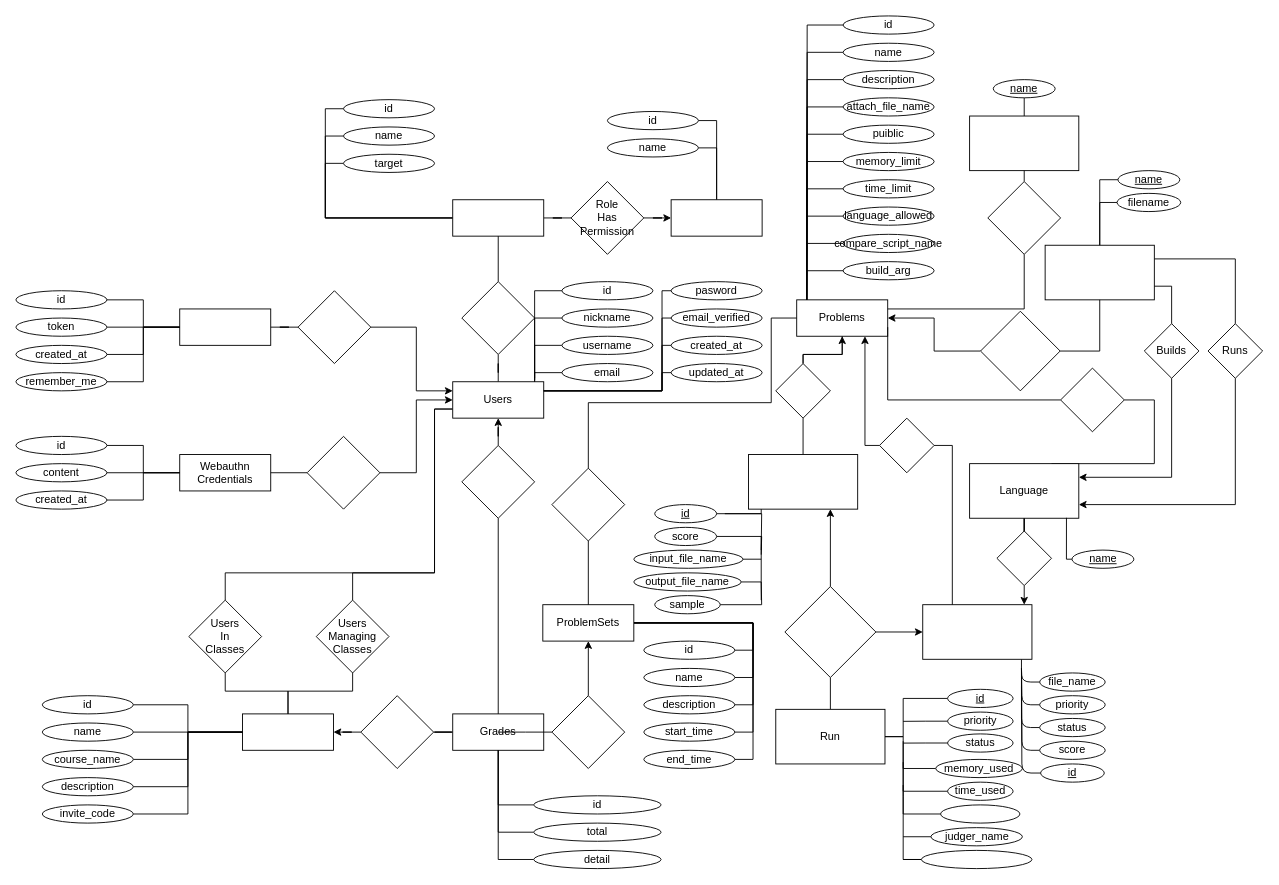
The diagram is 1279 pixels wide and 885 high, and some of its shapes have lost their labels. The box of each missing label's shape, as (x1, y1, x2, y2) in pixels:
Allows: (1060, 367, 1124, 432)
Classes: (242, 713, 334, 750)
Compares: (980, 310, 1060, 391)
Configured: (784, 586, 876, 677)
For: (879, 417, 934, 473)
Grades BelongsTo Users: (461, 445, 535, 518)
Grades On Classes: (360, 695, 434, 768)
Grades On ProblemSet: (551, 695, 625, 768)
Has: (775, 363, 830, 418)
In: (996, 530, 1052, 586)
judger_message: (920, 849, 1032, 869)
Labeled: (987, 181, 1061, 254)
output_hash: (940, 804, 1020, 823)
Permissions: (670, 199, 762, 236)
Problem In ProblemSet: (551, 467, 625, 541)
Roles: (452, 199, 544, 236)
Script: (1044, 244, 1154, 300)
Submission: (922, 604, 1032, 659)
Tag: (969, 115, 1079, 171)
Test Case: (748, 454, 858, 509)
Tokens: (179, 308, 271, 345)
User Has Credentials: (306, 435, 380, 509)
User Has Roles: (461, 281, 535, 354)
User Has Tokens: (297, 290, 371, 364)
